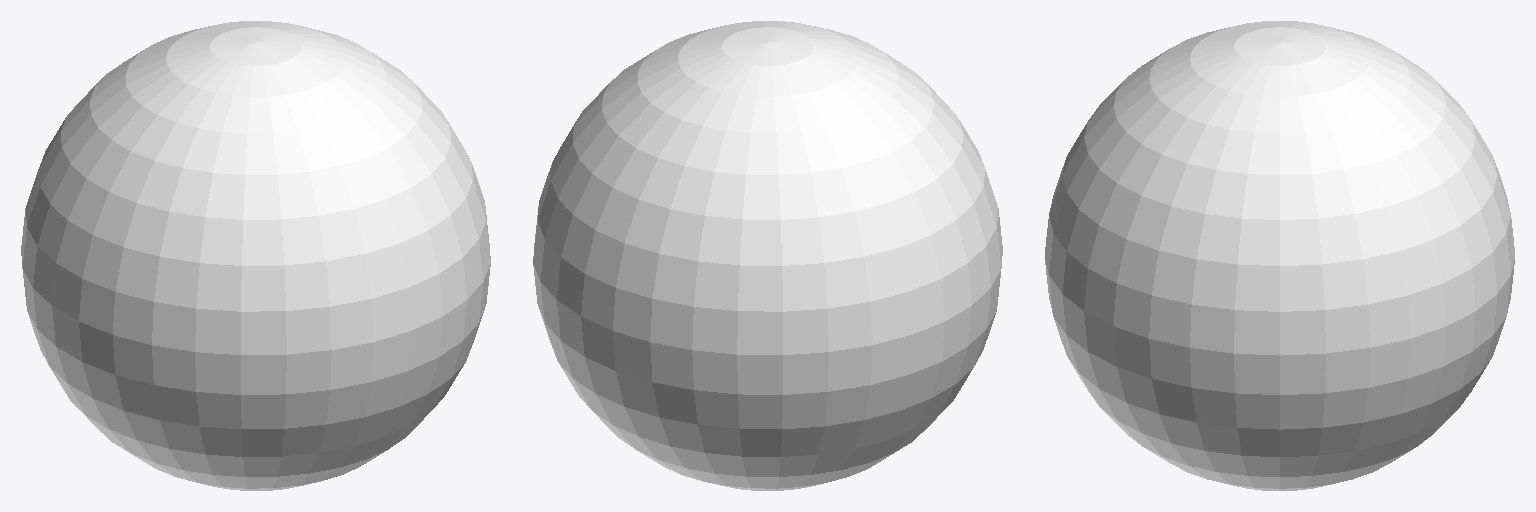
Rendered from lightBullet.obj.
3 renders of one model, left to right at view 1: azimuth 30°, elevation 25°; view 2: azimuth 150°, elevation 25°; view 3: azimuth 270°, elevation 25°, orthographic.
Visible parts, largest first — view 1: Sphere; view 2: Sphere; view 3: Sphere.
Part boxes in pixels (bbox=[...]): Sphere: bbox=[21, 21, 490, 490]; Sphere: bbox=[533, 21, 1002, 490]; Sphere: bbox=[1045, 21, 1514, 490].
Bounding box in the file's own units: 0.4814 × 0.4814 × 0.4814.